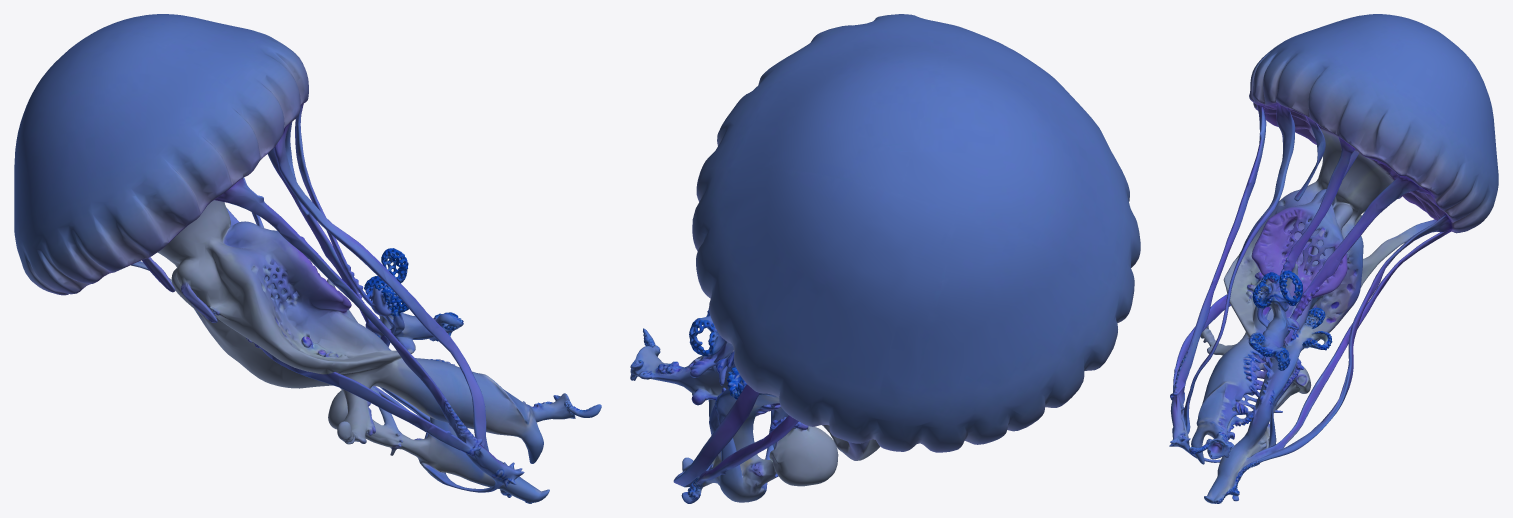
File: physalia.glb
The picture shows the model from 3 angles, left to right: view 1: azimuth 30°, elevation 25°; view 2: azimuth 150°, elevation 25°; view 3: azimuth 270°, elevation 25°; orthographic projection. The views are drawn at different scales.
Parts seen in each view (by area): view 1: tripo_node_7308184f-402e-4c55-b557-3d4876a47258; view 2: tripo_node_7308184f-402e-4c55-b557-3d4876a47258; view 3: tripo_node_7308184f-402e-4c55-b557-3d4876a47258.
Part boxes in pixels (box(x1,y1,x2,y2)): tripo_node_7308184f-402e-4c55-b557-3d4876a47258: box(14, 14, 601, 503); tripo_node_7308184f-402e-4c55-b557-3d4876a47258: box(630, 14, 1140, 503); tripo_node_7308184f-402e-4c55-b557-3d4876a47258: box(1169, 14, 1498, 503).
Bounding box in the file's own units: 0.9797 × 0.9465 × 0.753.
Materials: 1 (1 with a texture image).
